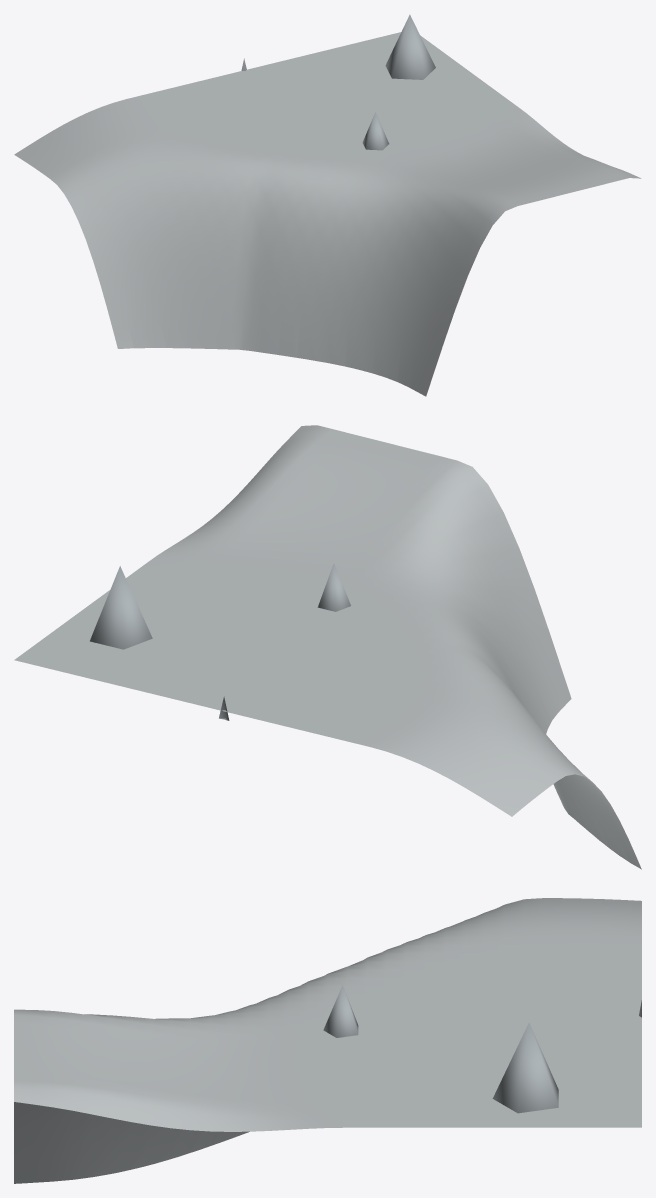
File: alpine-11-3.glb
3 views of the same model, one above another, from view 1: azimuth 30°, elevation 25°; view 2: azimuth 150°, elevation 25°; view 3: azimuth 270°, elevation 25° (orthographic). The views are drawn at different scales.
Parts seen in each view (by area): view 1: alpine-11-3; view 2: alpine-11-3; view 3: alpine-11-3.
Part boxes in pixels (bbox=[...]): alpine-11-3: bbox=[14, 14, 641, 396]; alpine-11-3: bbox=[14, 425, 641, 869]; alpine-11-3: bbox=[14, 898, 641, 1183].
Bounding box in the file's own units: 256 × 124 × 256.
Materials: 2 (2 with a texture image).
